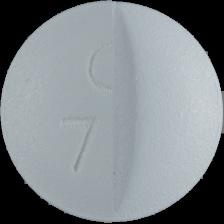68645-191: (0, 0, 224, 224)
